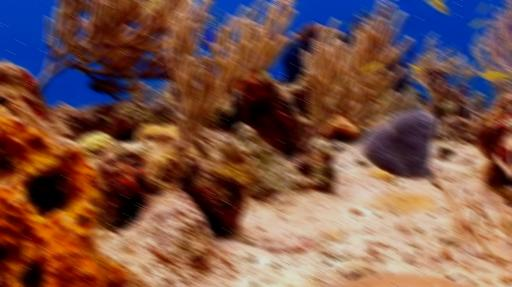Fish: (199, 29, 215, 50), (429, 0, 448, 14), (479, 73, 511, 81), (362, 61, 381, 73), (89, 81, 104, 92), (143, 0, 156, 11), (89, 81, 102, 92), (410, 62, 422, 72), (479, 2, 488, 14), (472, 20, 483, 28)
